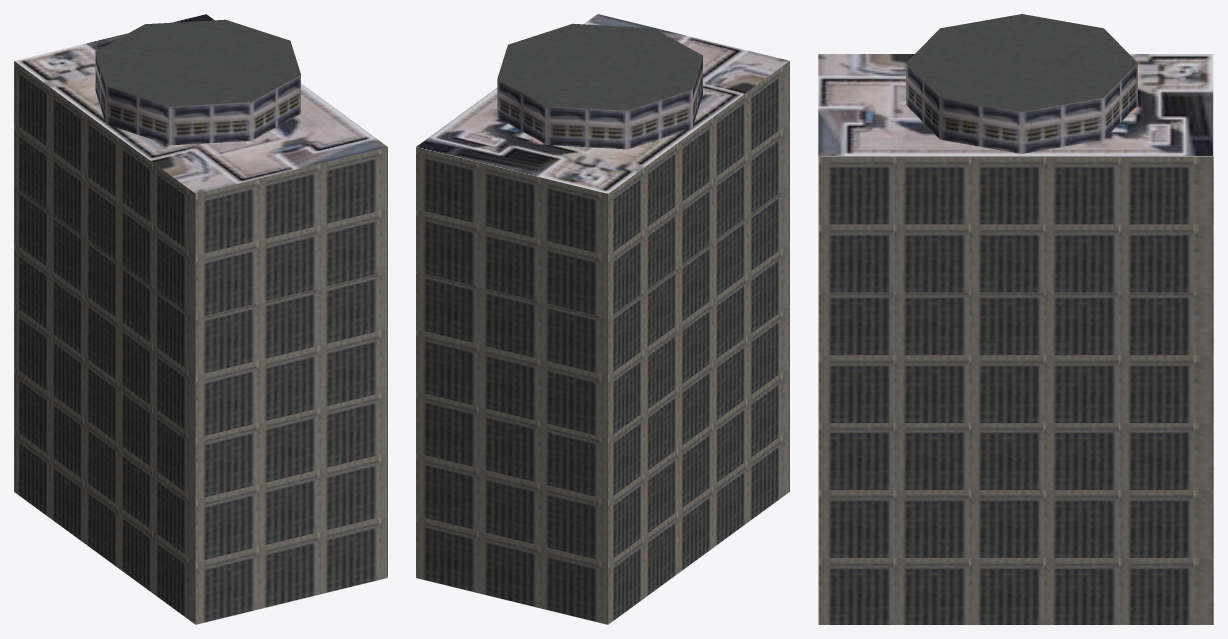
File: bill8.fbx
The picture shows the model from 3 angles, left to right: view 1: azimuth 30°, elevation 25°; view 2: azimuth 150°, elevation 25°; view 3: azimuth 270°, elevation 25°; orthographic projection. The views are drawn at different scales.
Visible parts, largest first — view 1: bill8; view 2: bill8; view 3: bill8.
Boxes of the visible parts, x1=… form: bill8: x1=14, y1=14, x2=387, y2=624; bill8: x1=416, y1=14, x2=789, y2=624; bill8: x1=818, y1=14, x2=1213, y2=624.
Size of the model in its own units: 93.24 by 218 by 153.
